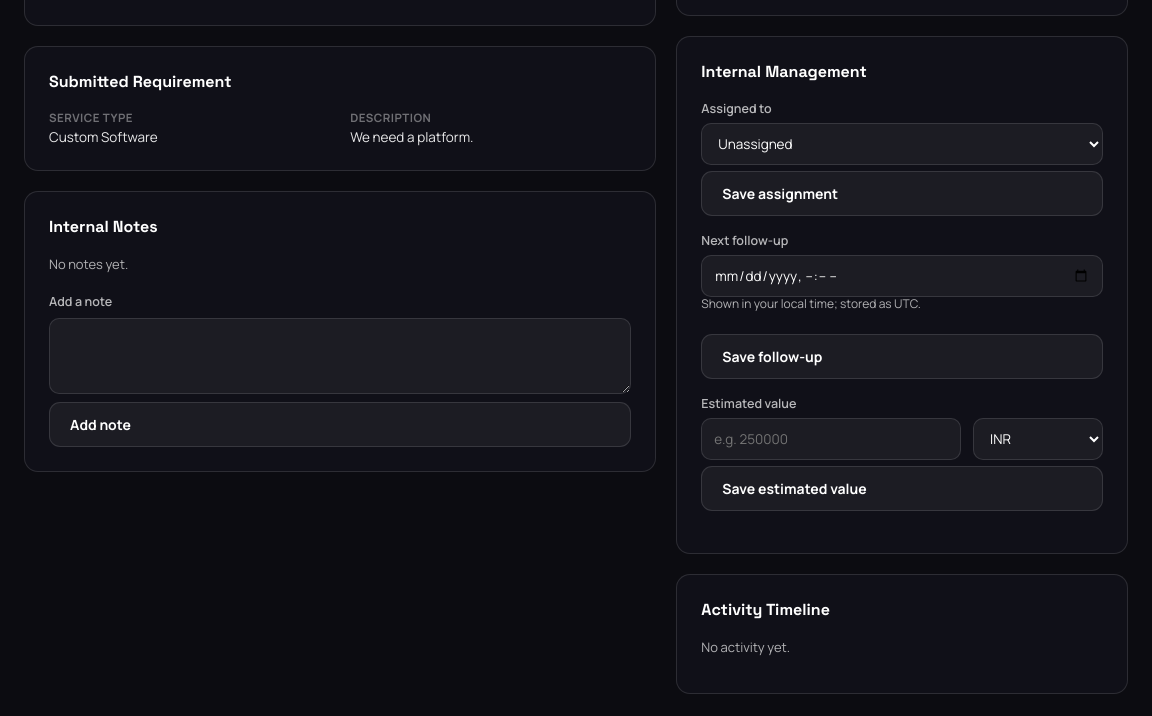
Test: AdminLeadDetailPage › adds a note
(page scrolled)
Type "Called and left a voicemail." into the text box labelled "Add a note" at (340, 356), box [49,318,631,394]
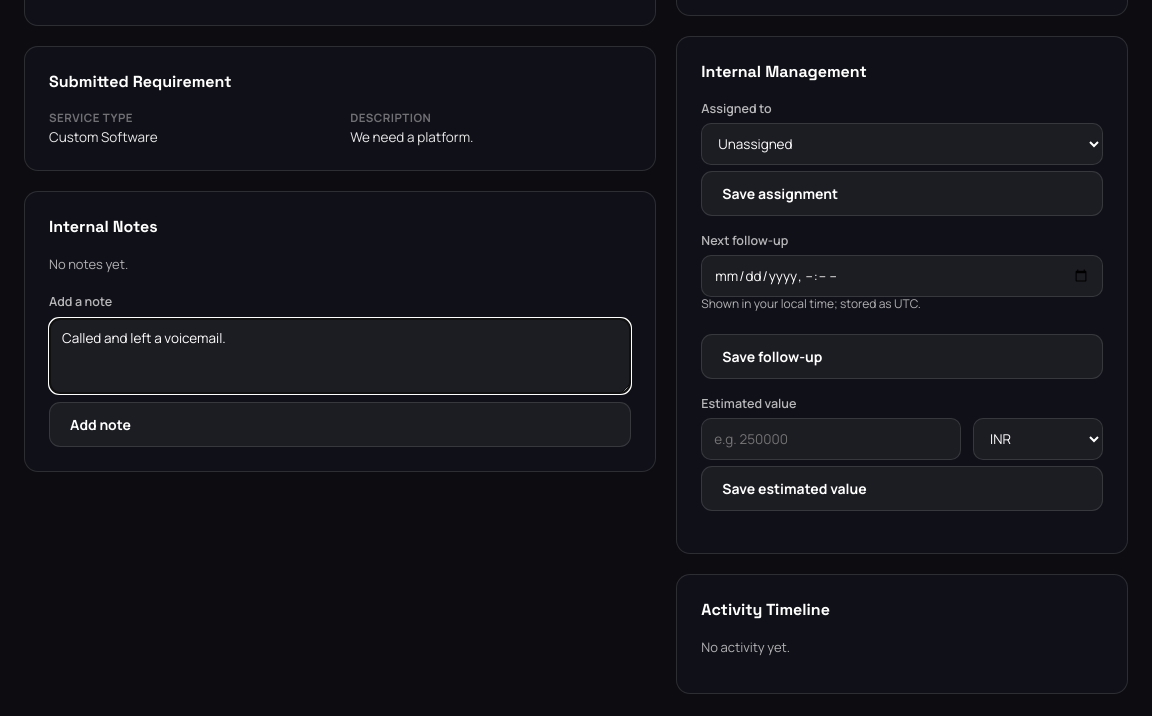
Click the button "Add note" at (100, 424), box [49,402,631,447]
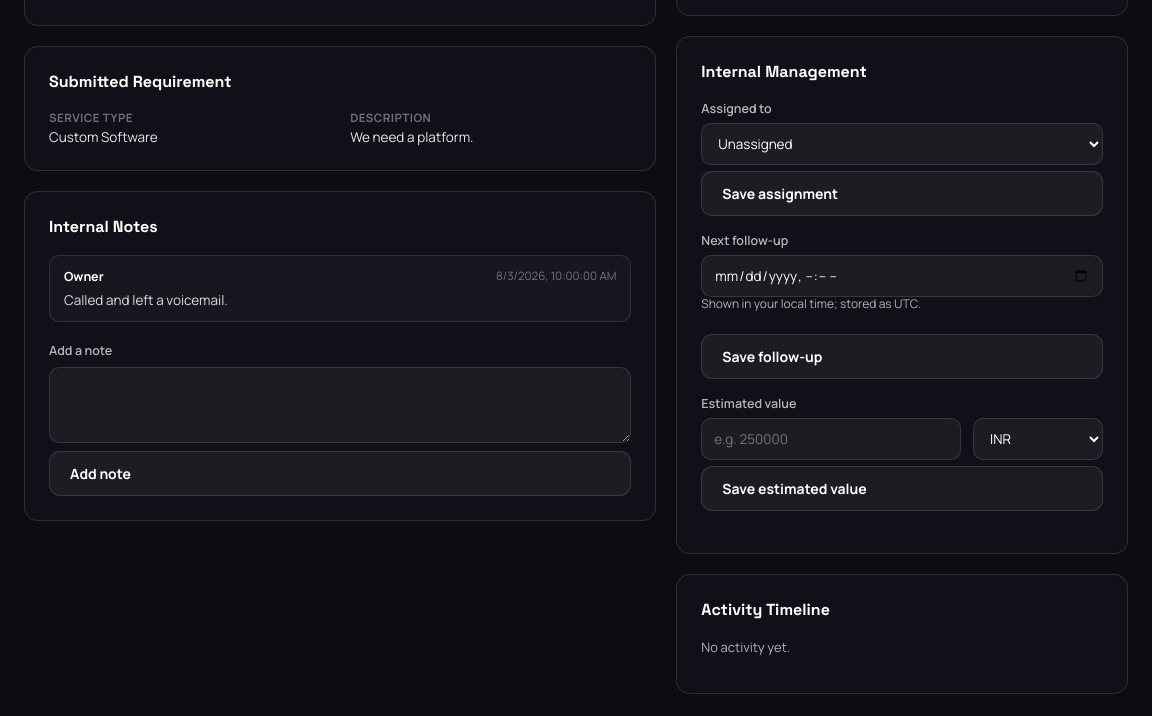
Expected: the text "Called and left a voicemail." is shown, [64,291,228,309]
